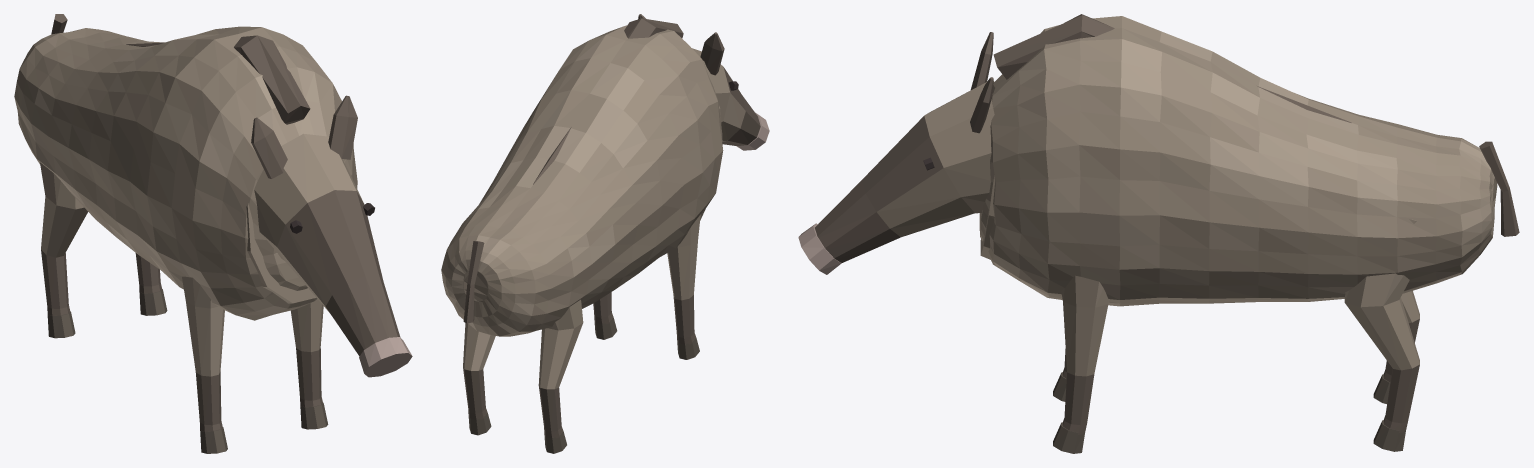
The model's file is boar_female.glb.
3 renders of one model, left to right at view 1: azimuth 30°, elevation 25°; view 2: azimuth 150°, elevation 25°; view 3: azimuth 270°, elevation 25°, orthographic. The views are drawn at different scales.
Visible parts, largest first — view 1: Body, Head.Skull, Leg.FR, Leg.BR, Body.Mane, Leg.FL, Head.Snout, Head.Ear#2, Head.Neck, Head.Ear, Leg.BL, Leg.FL.Hoof (+3 smaller); view 2: Body, Leg.BR, Leg.FR, Head.Skull, Leg.BL, Body.Mane, Body.Tail, Head.Ear#2, Leg.FL, Head.Snout, Leg.FR.Hoof, Leg.BL.Hoof (+2 smaller); view 3: Body, Head.Skull, Leg.BL, Leg.FL, Body.Mane, Body.Tail, Head.Snout.
Boxes of the visible parts, x1=… form: Body: x1=14, y1=26, x2=357, y2=320; Head.Skull: x1=254, y1=133, x2=400, y2=356; Leg.FR: x1=182, y1=276, x2=224, y2=431; Leg.BR: x1=40, y1=162, x2=87, y2=315; Body.Mane: x1=126, y1=35, x2=310, y2=124; Leg.FL: x1=291, y1=299, x2=323, y2=407; Head.Snout: x1=359, y1=337, x2=412, y2=377; Head.Ear#2: x1=251, y1=117, x2=287, y2=178; Head.Neck: x1=246, y1=203, x2=316, y2=303; Head.Ear: x1=328, y1=95, x2=357, y2=159; Leg.BL: x1=135, y1=253, x2=161, y2=293; Leg.FL.Hoof: x1=300, y1=402, x2=328, y2=429; Body: x1=441, y1=25, x2=723, y2=336; Leg.BR: x1=538, y1=299, x2=583, y2=438; Leg.FR: x1=667, y1=214, x2=700, y2=344; Head.Skull: x1=692, y1=48, x2=760, y2=146; Leg.BL: x1=463, y1=323, x2=495, y2=419; Body.Mane: x1=533, y1=18, x2=683, y2=184; Body.Tail: x1=463, y1=241, x2=484, y2=323; Head.Ear#2: x1=700, y1=32, x2=724, y2=75; Leg.FL: x1=593, y1=292, x2=612, y2=324; Head.Snout: x1=736, y1=112, x2=769, y2=150; Leg.FR.Hoof: x1=677, y1=333, x2=699, y2=359; Leg.BL.Hoof: x1=468, y1=409, x2=491, y2=435; Body: x1=979, y1=16, x2=1497, y2=306; Head.Skull: x1=815, y1=81, x2=994, y2=262; Leg.BL: x1=1344, y1=219, x2=1419, y2=432; Leg.FL: x1=1061, y1=275, x2=1109, y2=434; Body.Mane: x1=993, y1=14, x2=1351, y2=122; Body.Tail: x1=1479, y1=141, x2=1519, y2=236; Head.Snout: x1=798, y1=223, x2=841, y2=274.
Size of the model in its own units: 0.4418 by 0.9181 by 1.46.
